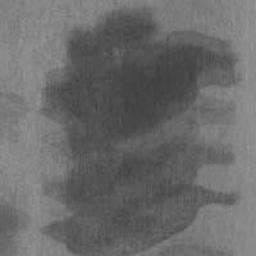Oil spot: (37, 4, 244, 256), (0, 183, 33, 256), (0, 0, 36, 55), (0, 88, 32, 146)
